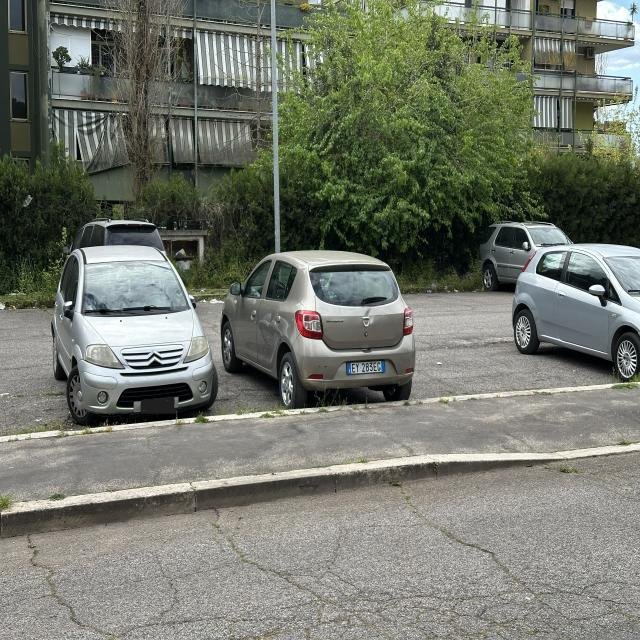number_plate: (347, 361, 384, 374)
